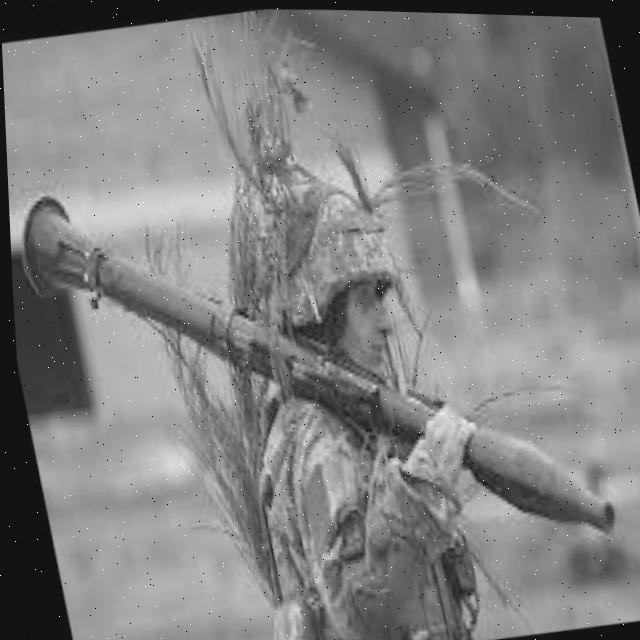rocket: (5, 104, 620, 608)
